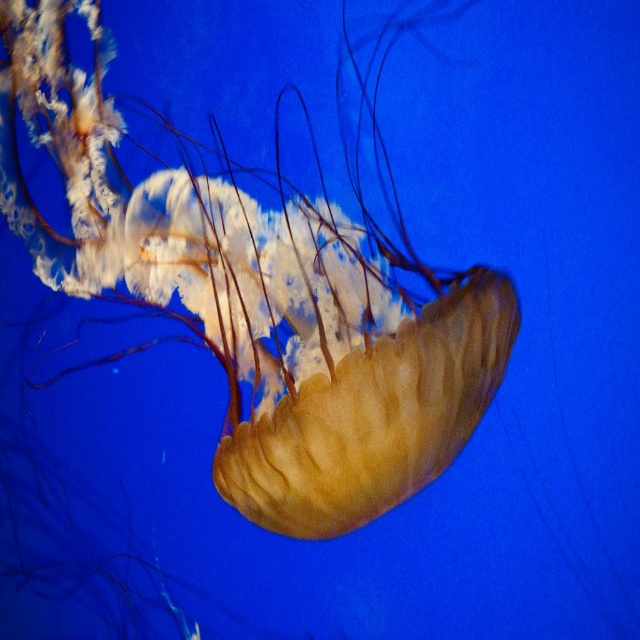Jellyfish: (94, 18, 536, 575)
